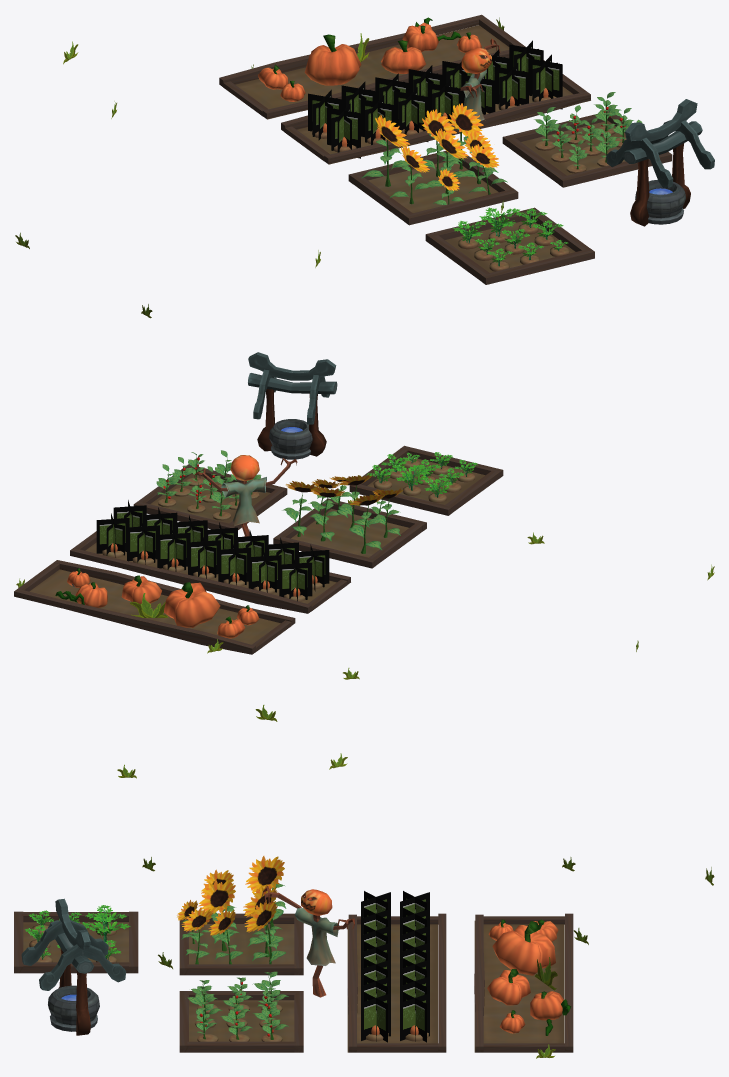
File: plants.obj
The picture shows the model from 3 angles, top to bottom: view 1: azimuth 30°, elevation 25°; view 2: azimuth 150°, elevation 25°; view 3: azimuth 270°, elevation 25°; orthographic projection. The views are drawn at different scales.
Visible parts, largest first — view 1: carrot_carrot_0, Plane.003_Steam_0, Circle.040_Day5__0, Circle.044_sunnyflover_0, Plane.044_roof_0, Plane.043_roof_0, Plane.033_roof_0, Plane.046_roof_0, Plane.029_roof_0, Circle.045_sunnyflover_0, Plane.047_Tomat_0, Cylinder.054_Day5__0 (+7 smaller); view 2: carrot_carrot_0, Plane.003_Steam_0, Circle.040_Day5__0, Plane.044_roof_0, Plane.033_roof_0, Circle.044_sunnyflover_0, Plane.043_roof_0, Plane.046_roof_0, Plane.047_Tomat_0, Cylinder.054_Day5__0, Plane.029_roof_0, Cylinder.059_Day5__0 (+8 smaller); view 3: Plane.003_Steam_0, carrot_carrot_0, Circle.040_Day5__0, Circle.044_sunnyflover_0, Plane.044_roof_0, Plane.033_roof_0, Plane.029_roof_0, Plane.046_roof_0, Circle.045_sunnyflover_0, Plane.043_roof_0, Cylinder.059_Day5__0, Cylinder.054_Day5__0 (+6 smaller).
Boxes of the visible parts, bbox=[...] form: carrot_carrot_0: bbox=[308, 40, 562, 158]; Plane.003_Steam_0: bbox=[235, 25, 625, 272]; Circle.040_Day5__0: bbox=[606, 99, 714, 226]; Circle.044_sunnyflover_0: bbox=[361, 103, 507, 204]; Plane.044_roof_0: bbox=[219, 14, 525, 118]; Plane.043_roof_0: bbox=[425, 207, 594, 284]; Plane.033_roof_0: bbox=[281, 60, 590, 164]; Plane.046_roof_0: bbox=[348, 151, 518, 225]; Plane.029_roof_0: bbox=[502, 111, 672, 187]; Circle.045_sunnyflover_0: bbox=[534, 92, 642, 166]; Plane.047_Tomat_0: bbox=[453, 207, 568, 266]; Cylinder.054_Day5__0: bbox=[258, 32, 481, 101]; carrot_carrot_0: bbox=[96, 500, 329, 601]; Plane.003_Steam_0: bbox=[29, 456, 485, 644]; Circle.040_Day5__0: bbox=[248, 352, 337, 459]; Plane.044_roof_0: bbox=[14, 560, 295, 654]; Plane.033_roof_0: bbox=[70, 531, 350, 613]; Circle.044_sunnyflover_0: bbox=[282, 474, 403, 549]; Plane.043_roof_0: bbox=[349, 445, 503, 515]; Plane.046_roof_0: bbox=[273, 498, 426, 568]; Plane.047_Tomat_0: bbox=[366, 452, 477, 497]; Cylinder.054_Day5__0: bbox=[67, 568, 259, 638]; Plane.029_roof_0: bbox=[133, 464, 287, 529]; Cylinder.059_Day5__0: bbox=[164, 582, 220, 627]; Plane.003_Steam_0: bbox=[23, 921, 564, 1052]; carrot_carrot_0: bbox=[361, 891, 429, 1042]; Circle.040_Day5__0: bbox=[21, 898, 126, 1035]; Circle.044_sunnyflover_0: bbox=[177, 856, 286, 962]; Plane.044_roof_0: bbox=[474, 913, 573, 1052]; Plane.033_roof_0: bbox=[347, 913, 446, 1052]; Plane.029_roof_0: bbox=[179, 991, 303, 1052]; Plane.046_roof_0: bbox=[179, 913, 303, 975]; Circle.045_sunnyflover_0: bbox=[187, 971, 288, 1035]; Plane.043_roof_0: bbox=[14, 911, 138, 973]; Cylinder.059_Day5__0: bbox=[492, 925, 555, 975]; Cylinder.054_Day5__0: bbox=[487, 919, 558, 1033].
Size of what is drawn, in the model's own units: 3566 by 663 by 3607.
6 materials, 6 textured.
